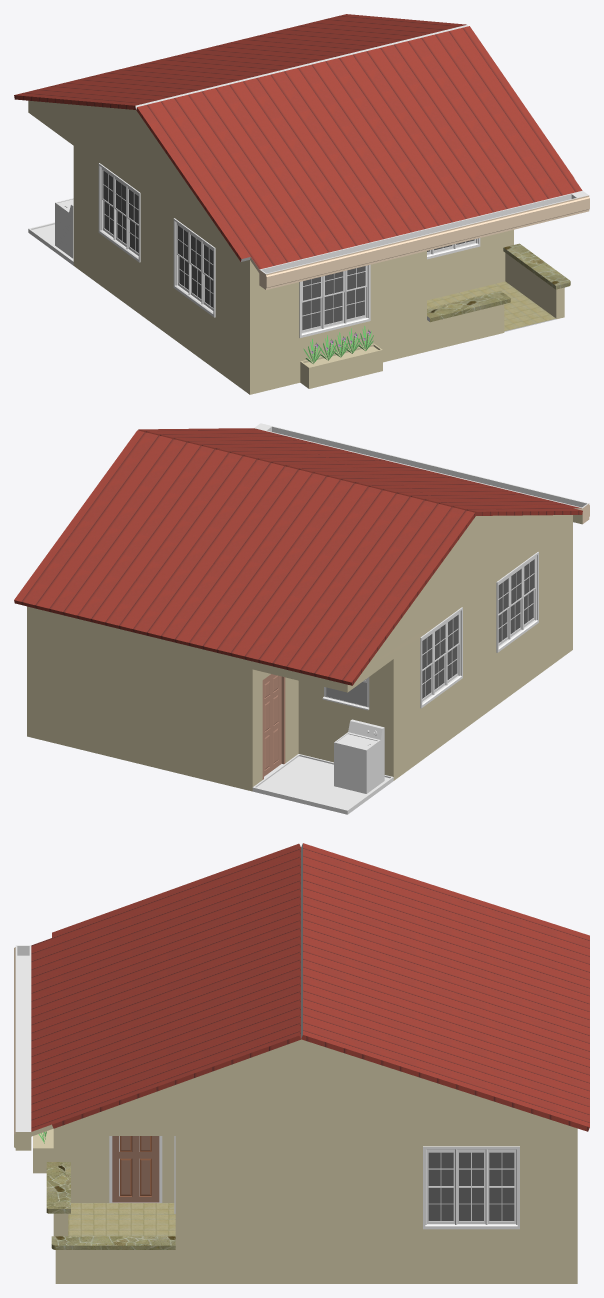
File: House.gltf
The picture shows the model from 3 angles, top to bottom: view 1: azimuth 30°, elevation 25°; view 2: azimuth 150°, elevation 25°; view 3: azimuth 270°, elevation 25°; orthographic projection. The views are drawn at different scales.
Parts seen in each view (by area): view 1: House3; view 2: House3; view 3: House3.
Part boxes in pixels (x1=…): House3: x1=14, y1=14, x2=589, y2=394; House3: x1=14, y1=423, x2=589, y2=814; House3: x1=14, y1=843, x2=589, y2=1283.
Bounding box in the file's own units: 739 × 456 × 937.
Materials: 18 (4 with a texture image).
